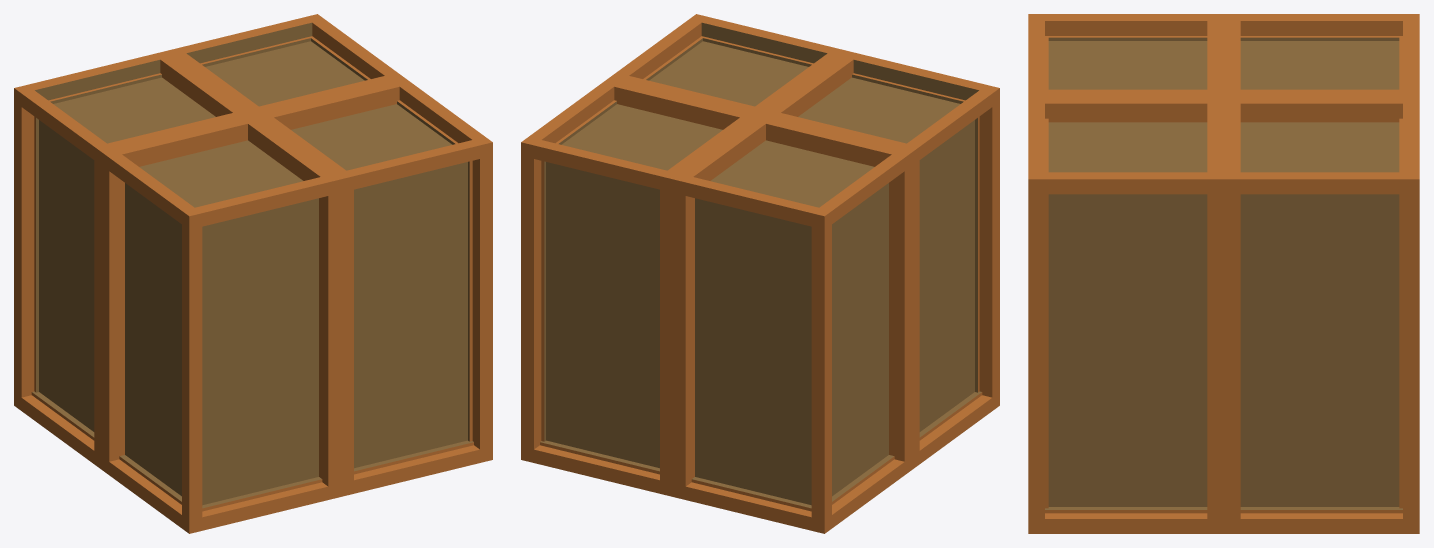
File: CrateModel03.fbx
The picture shows the model from 3 angles, left to right: view 1: azimuth 30°, elevation 25°; view 2: azimuth 150°, elevation 25°; view 3: azimuth 270°, elevation 25°; orthographic projection. The views are drawn at different scales.
Visible parts, largest first — view 1: Crate03; view 2: Crate03; view 3: Crate03.
Boxes of the visible parts, left/top/right/bottom form: Crate03: left=14, top=14, right=492, bottom=533; Crate03: left=521, top=14, right=999, bottom=533; Crate03: left=1028, top=14, right=1419, bottom=533.
Bounding box in the file's own units: 95.71 × 95.71 × 95.71.
